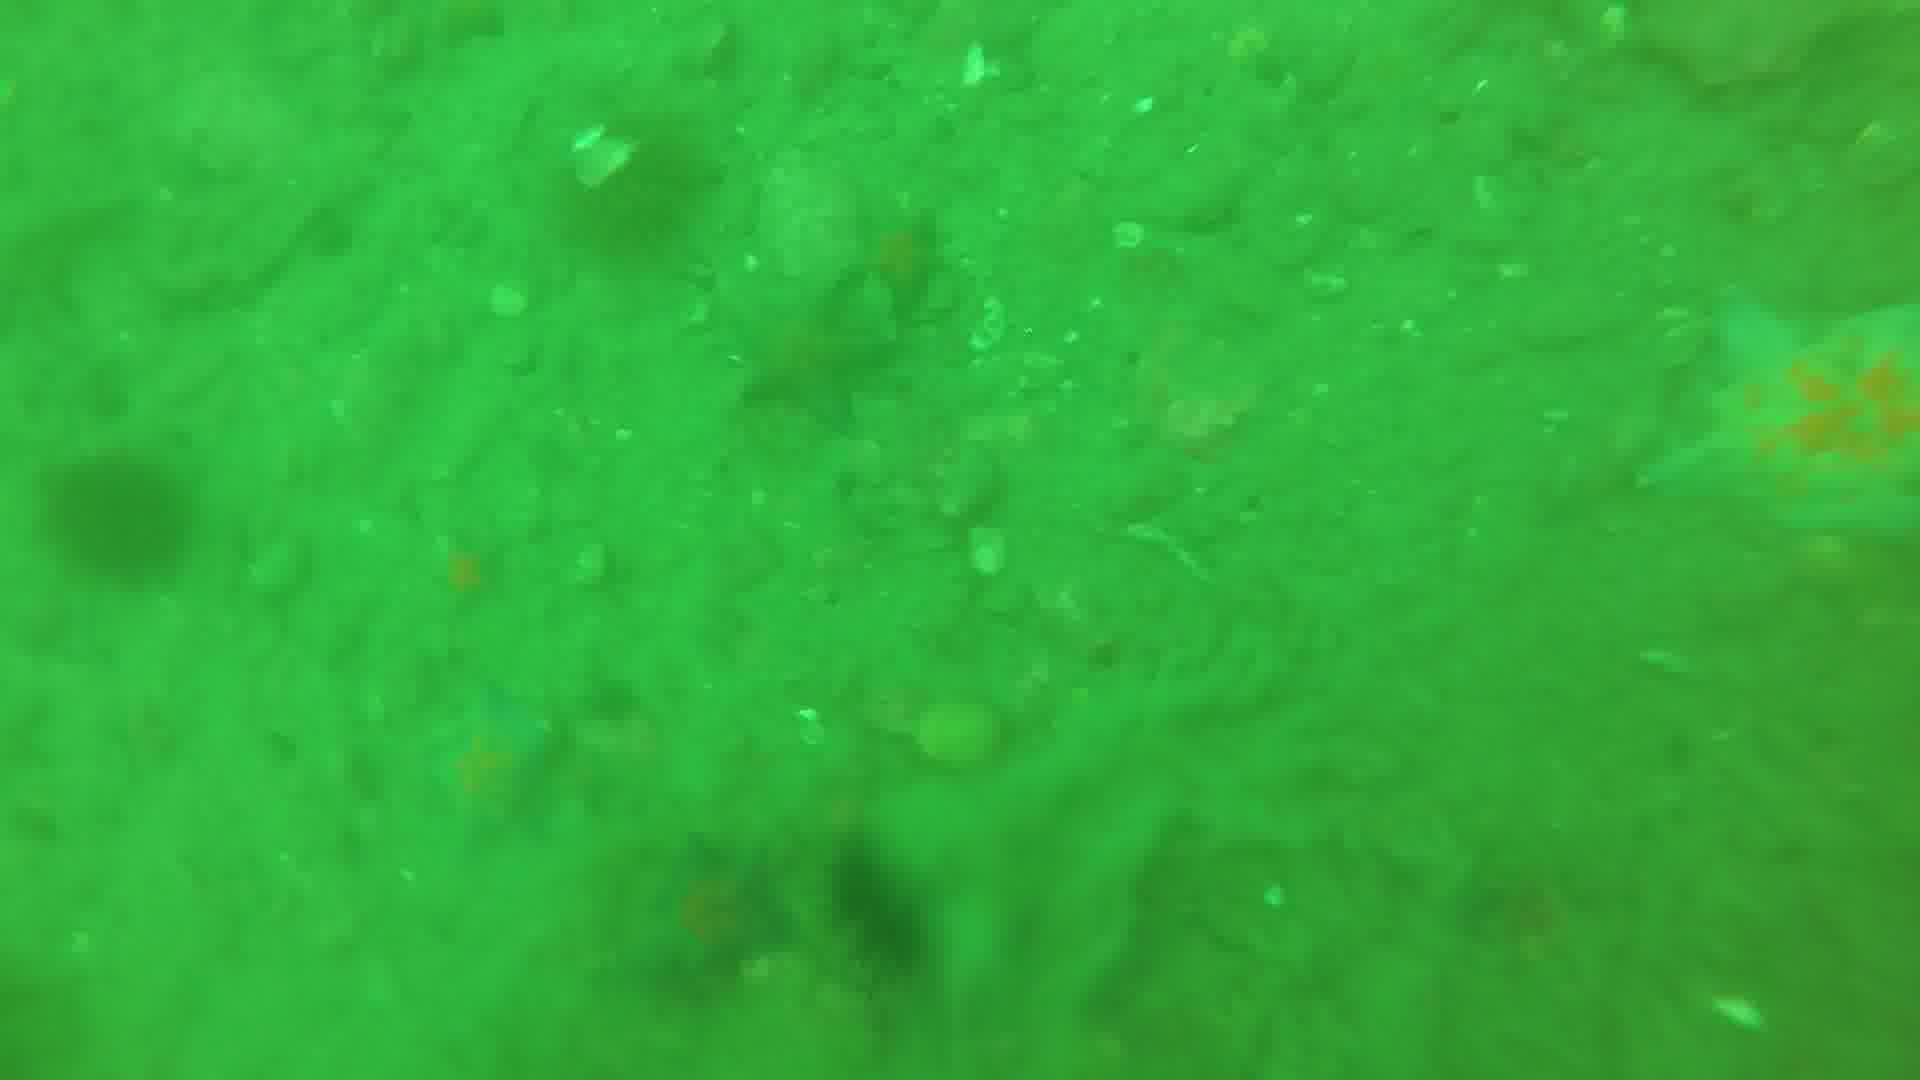echinus: (32, 448, 210, 578), (538, 149, 713, 255)
scallop: (924, 709, 1011, 765), (968, 297, 1011, 347)
starfish: (1634, 290, 1920, 537), (404, 690, 564, 902), (709, 262, 887, 421), (4, 145, 131, 367)
